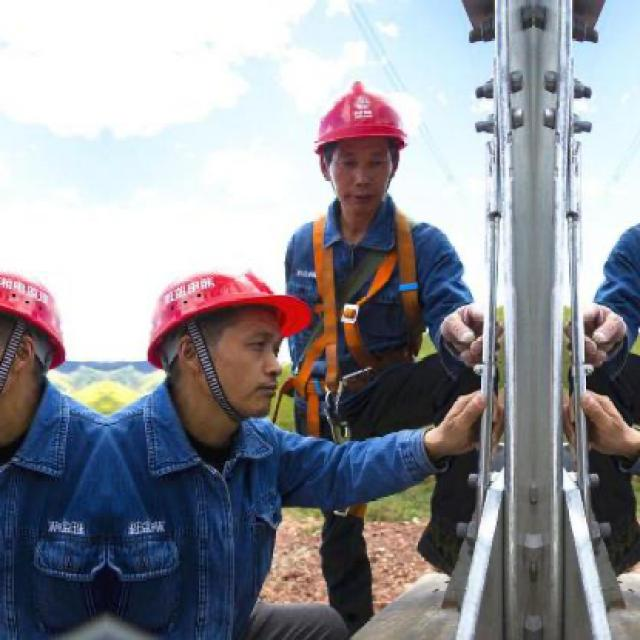helmet: (140, 240, 302, 425), (302, 72, 423, 231), (2, 240, 72, 426)
